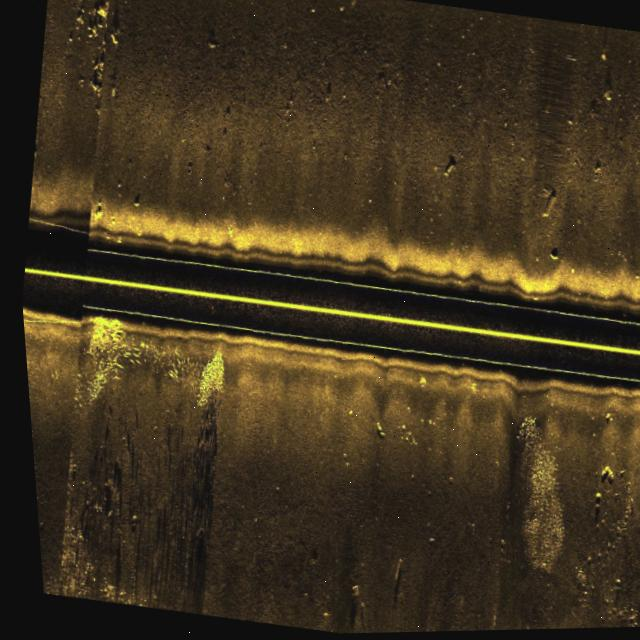mine: (373, 554, 401, 615), (434, 148, 459, 186), (534, 190, 555, 222), (595, 90, 618, 109), (88, 206, 104, 227), (540, 247, 557, 266), (583, 492, 595, 505)
